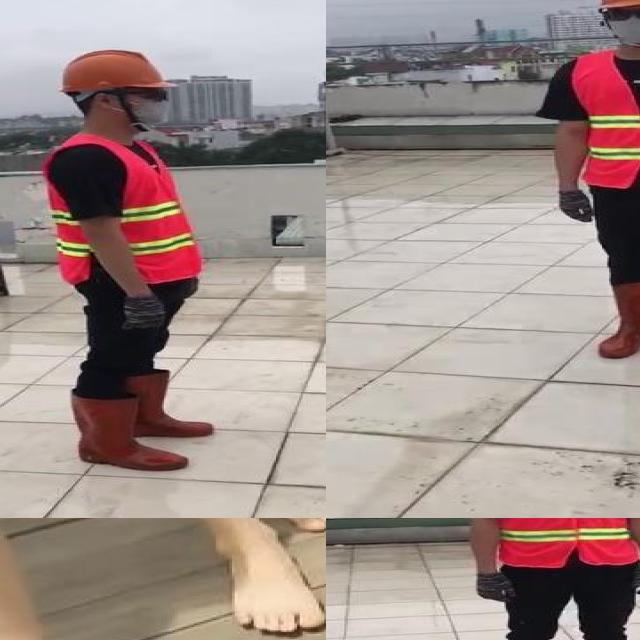Barefoots: (227, 529, 326, 634)
boots: (66, 389, 192, 470), (130, 367, 212, 440), (596, 282, 640, 360)
face_mask: (120, 86, 174, 128), (602, 4, 640, 45)
glasses: (125, 84, 173, 104), (597, 4, 640, 23)
hand_glove: (118, 294, 169, 332), (561, 189, 597, 225), (476, 575, 517, 604), (630, 559, 640, 594)
head_helmet: (56, 48, 174, 96)
person: (34, 43, 224, 478), (534, 0, 640, 377), (451, 518, 640, 640)
vest: (47, 135, 203, 283), (568, 44, 640, 190), (488, 518, 637, 566)
